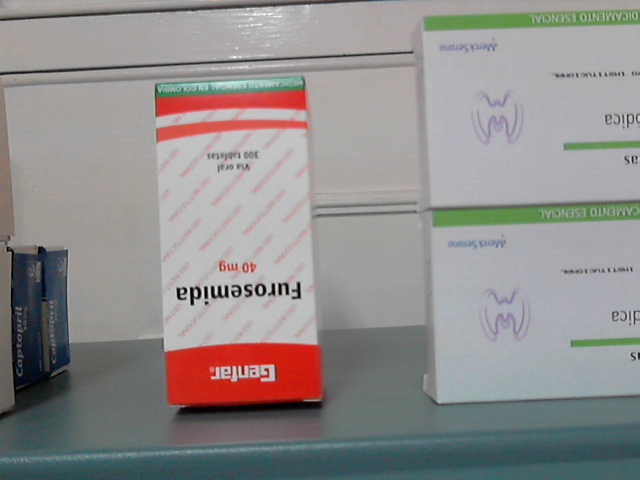Genfar: (154, 85, 321, 403)
